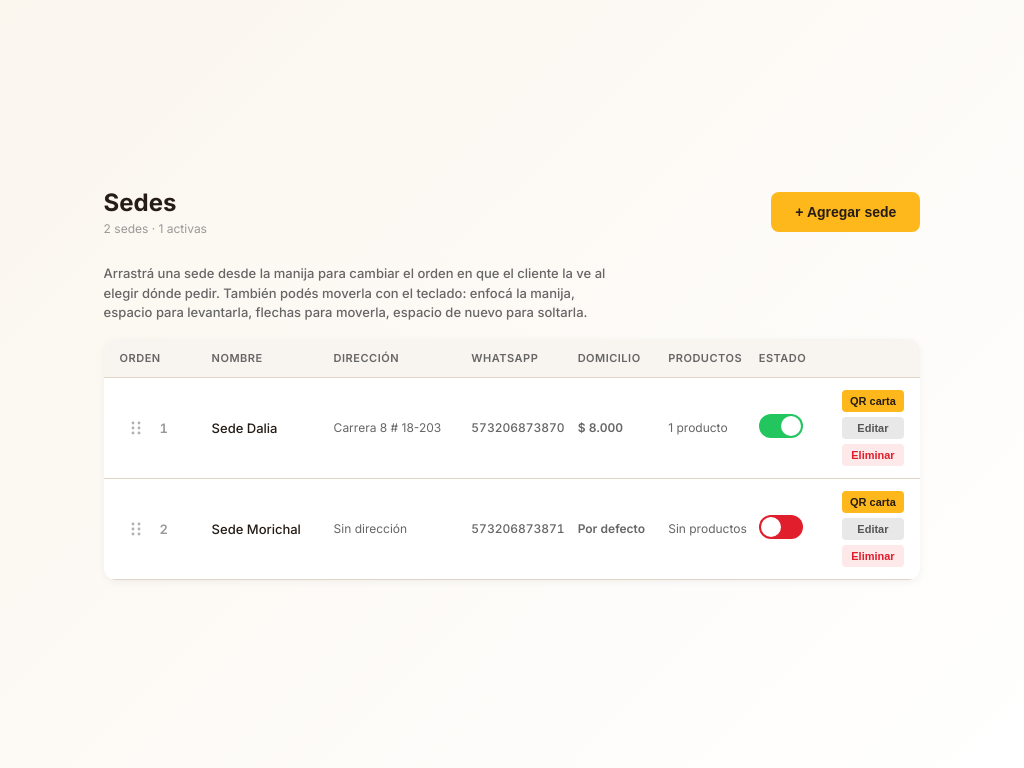
Test: SedesSection › abre el modal de edicion con la sede precargada
Step 1. Click the button with aria-label "Editar Sede Dalia" → point(873, 428), box [842,417,904,439]
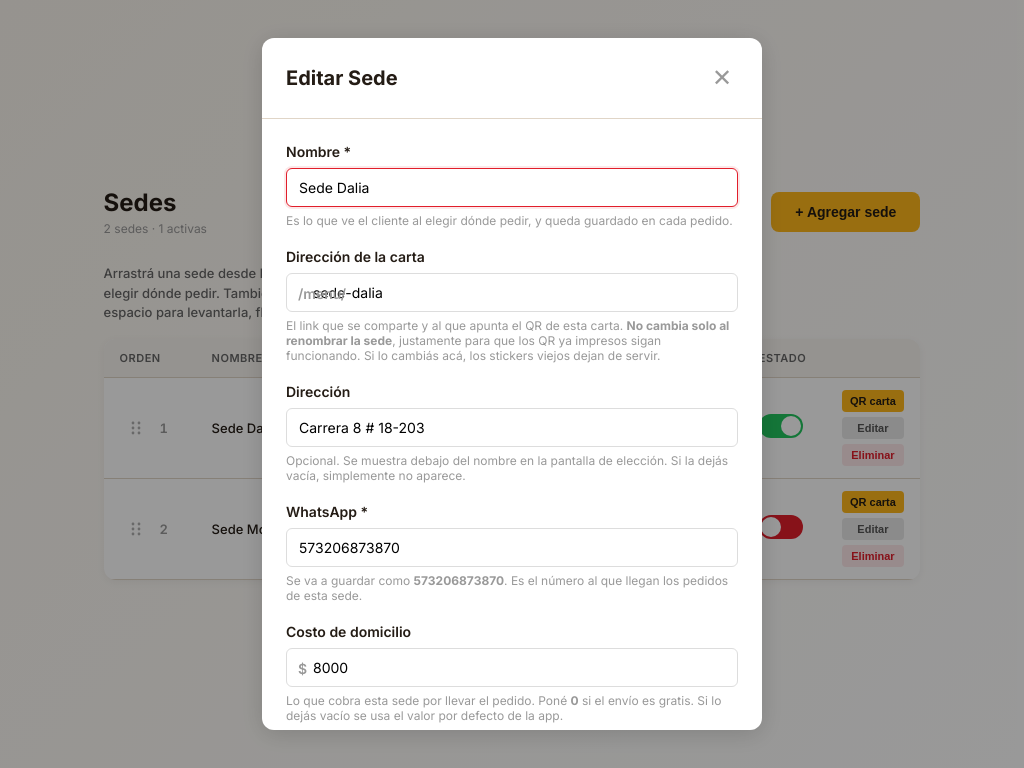
Check: the heading "Editar Sede" is shown, box [286,66,398,90]
Check: the field labelled "Nombre *" holds "Sede Dalia", box [286,168,738,207]
